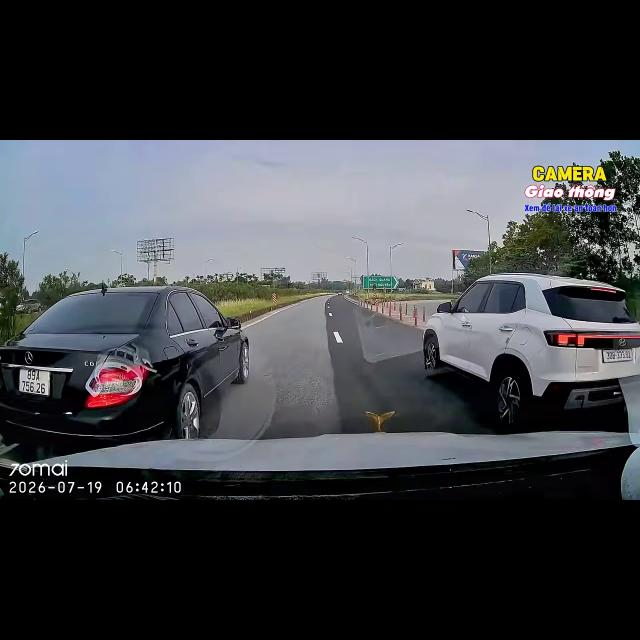car: (0, 286, 248, 444), (423, 273, 639, 428), (16, 299, 42, 313), (338, 291, 342, 295)
